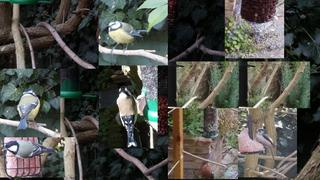blue tit: (106, 20, 148, 54), (16, 89, 40, 130)
goldfinch: (116, 86, 138, 148)
great tit: (2, 140, 55, 159)
long tailed tit: (255, 128, 277, 170)
